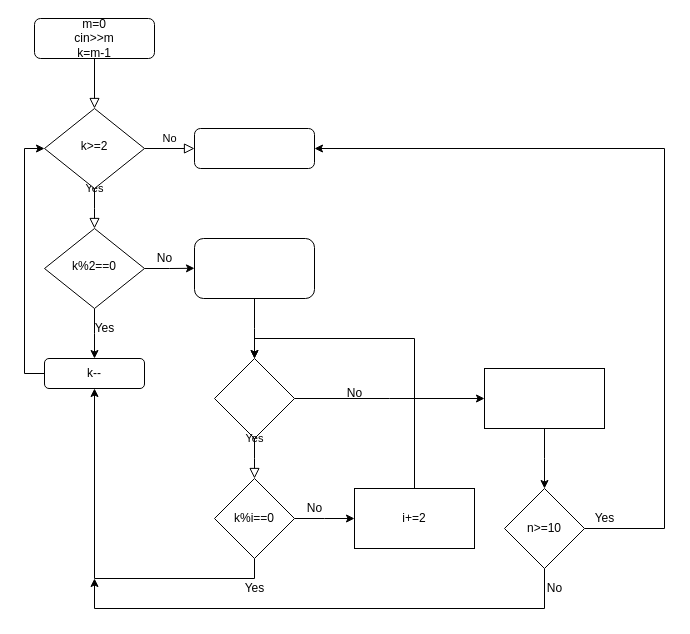
Image size: 690x634. Some labels were removed from this diagram. Each missing label, with the centre of its shape:
"cout<<setw(6)<<k ++n" belongs at (544,398).
"i<e" belongs at (254,398).
"i=3,e=std::sqrt(k)" belongs at (254,268).
"return" belongs at (254,148).
